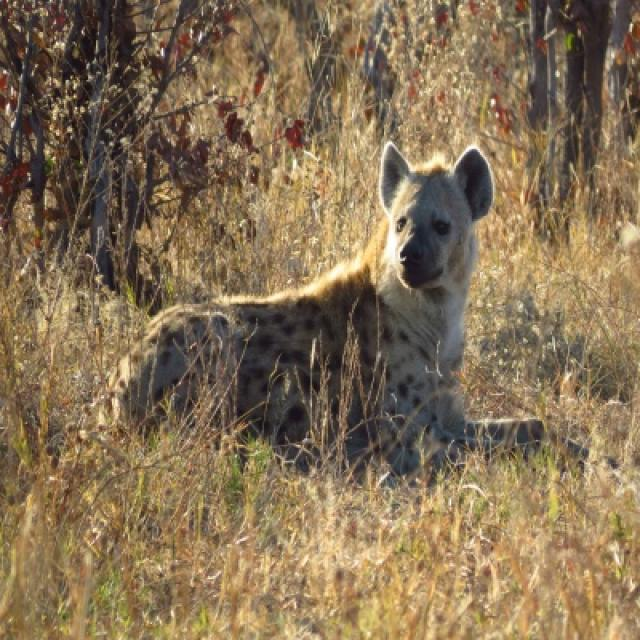hyena: (221, 144, 496, 464)
